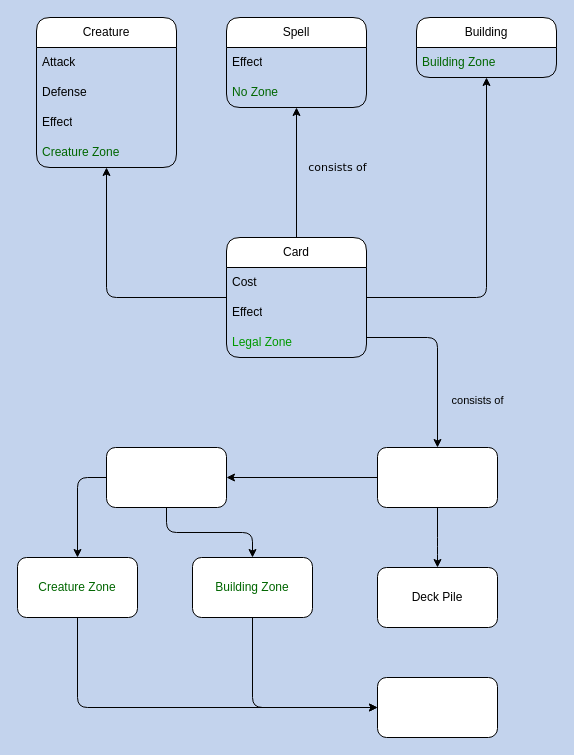
This 574x755 diagram has some shape labels left out. The centre of each missing label's shape, as x and y in pixels:
"Deck" goes at [437,477].
"Discard Pile" goes at [437,707].
"Hand" goes at [166,477].
